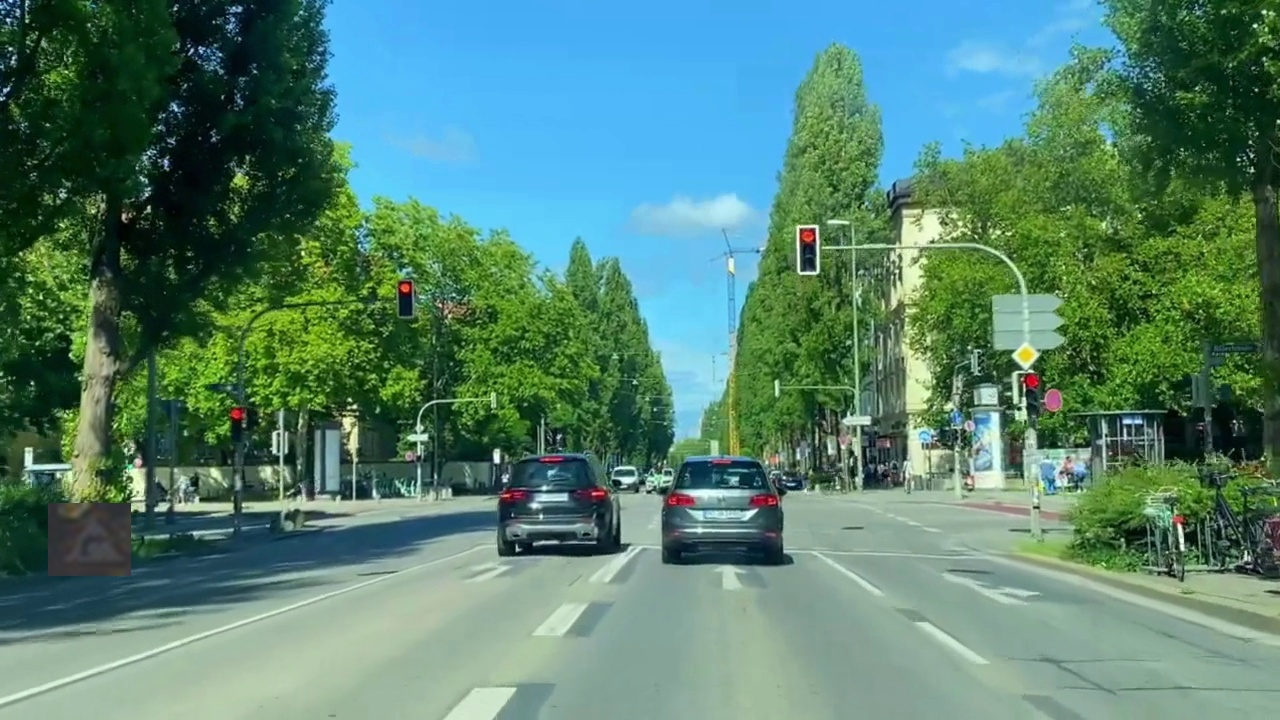Curve right: (48, 503, 131, 576)
